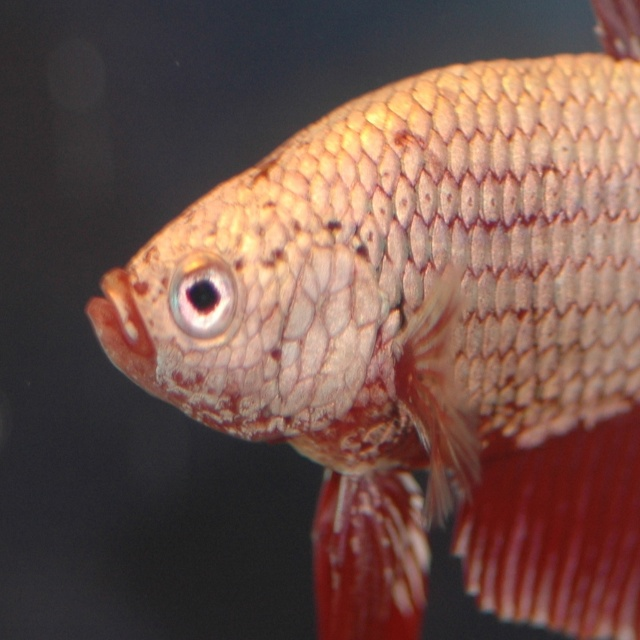Fish: (83, 52, 638, 615)
